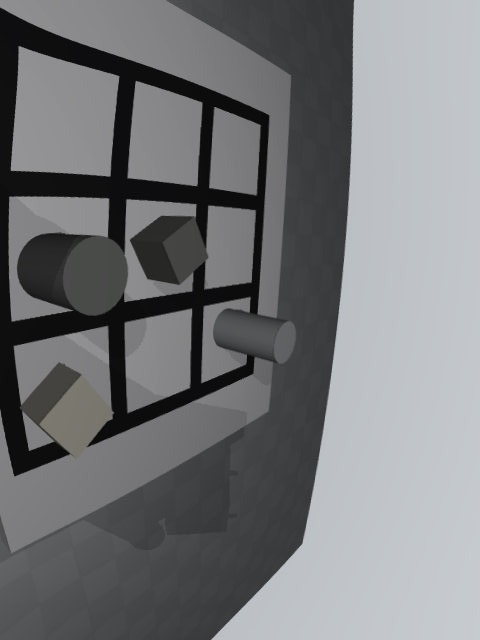can: (213, 309, 296, 364)
cube: (130, 216, 208, 285)
cylinder: (17, 233, 128, 316)
foam: (19, 362, 114, 459)
